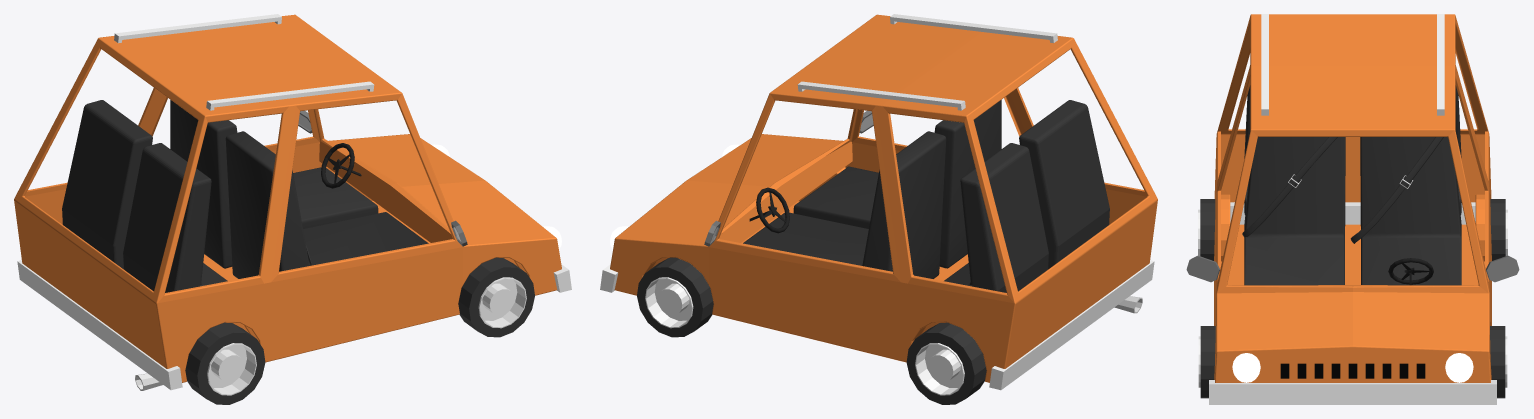
Rendered from lowpoly_car.glb.
3 renders of one model, left to right at view 1: azimuth 30°, elevation 25°; view 2: azimuth 150°, elevation 25°; view 3: azimuth 270°, elevation 25°, orthographic. The views are drawn at different scales.
Parts seen in each view (by area): view 1: Cube_0, Cube.008_12, Cube.011_15, Cube.010_14, Cube.009_13, Cylinder.001_4, Cylinder.003_3, Cube.002_2, Cube.003_7, Cube.004_8, Torus_19; view 2: Cube_0, Cube.009_13, Cube.010_14, Cube.011_15, Cube.008_12, Cylinder.004_6, Cylinder.002_5, Cube.002_2, Cube.004_8, Cube.003_7, Torus_19; view 3: Cube_0, Cube.008_12, Cube.009_13, Cube.001_1, Cube.007_11, Cylinder.002_5, Cylinder.003_3, Cylinder.004_6, Cylinder.001_4, Plane_21, Plane.001_22, Cube.003_7 (+9 smaller).
Boxes of the visible parts, left/top/right/bottom form: Cube_0: left=14, top=14, right=561, bottom=382; Cube.008_12: left=225, top=131, right=428, bottom=278; Cube.011_15: left=62, top=100, right=152, bottom=269; Cube.010_14: left=123, top=143, right=227, bottom=292; Cube.009_13: left=170, top=100, right=378, bottom=268; Cylinder.001_4: left=185, top=322, right=265, bottom=404; Cylinder.003_3: left=458, top=257, right=534, bottom=337; Cube.002_2: left=17, top=260, right=182, bottom=390; Cube.003_7: left=206, top=81, right=374, bottom=110; Cube.004_8: left=114, top=14, right=281, bottom=43; Torus_19: left=321, top=143, right=361, bottom=188; Cube_0: left=610, top=14, right=1157, bottom=382; Cube.009_13: left=743, top=131, right=946, bottom=278; Cube.010_14: left=1019, top=100, right=1109, bottom=269; Cube.011_15: left=944, top=143, right=1048, bottom=292; Cube.008_12: left=793, top=100, right=1001, bottom=268; Cylinder.004_6: left=906, top=322, right=986, bottom=404; Cylinder.002_5: left=637, top=257, right=713, bottom=337; Cube.002_2: left=989, top=260, right=1154, bottom=390; Cube.004_8: left=797, top=81, right=965, bottom=110; Cube.003_7: left=890, top=14, right=1057, bottom=43; Torus_19: left=749, top=187, right=789, bottom=233; Cube_0: left=1214, top=14, right=1491, bottom=382; Cube.008_12: left=1244, top=137, right=1345, bottom=285; Cube.009_13: left=1360, top=137, right=1461, bottom=285; Cube.001_1: left=1209, top=380, right=1496, bottom=404; Cube.007_11: left=1280, top=363, right=1425, bottom=378; Cylinder.002_5: left=1490, top=326, right=1507, bottom=398; Cylinder.003_3: left=1198, top=326, right=1215, bottom=398; Cylinder.004_6: left=1490, top=199, right=1507, bottom=260; Cylinder.001_4: left=1198, top=199, right=1215, bottom=260; Plane_21: left=1350, top=137, right=1443, bottom=243; Plane.001_22: left=1242, top=137, right=1337, bottom=236; Cube.003_7: left=1261, top=14, right=1268, bottom=115.
Size of the model in its own units: 3.38 by 2.12 by 2.44.
